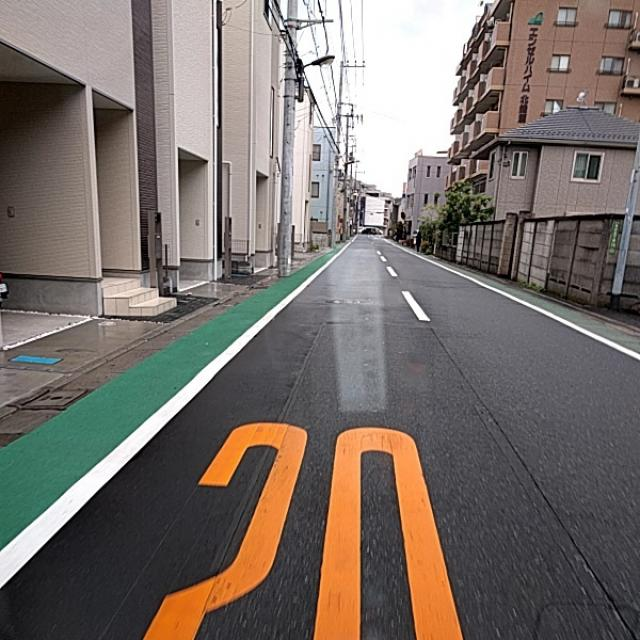pothole: (451, 402, 522, 473)
